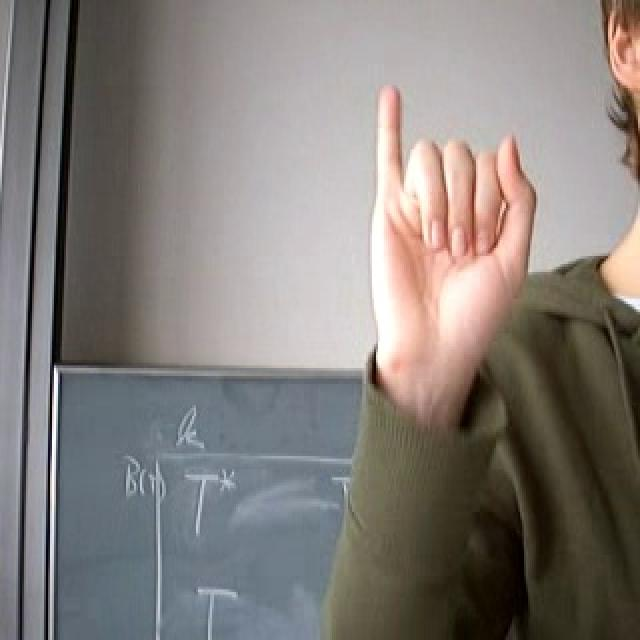I: (360, 76, 541, 374)
